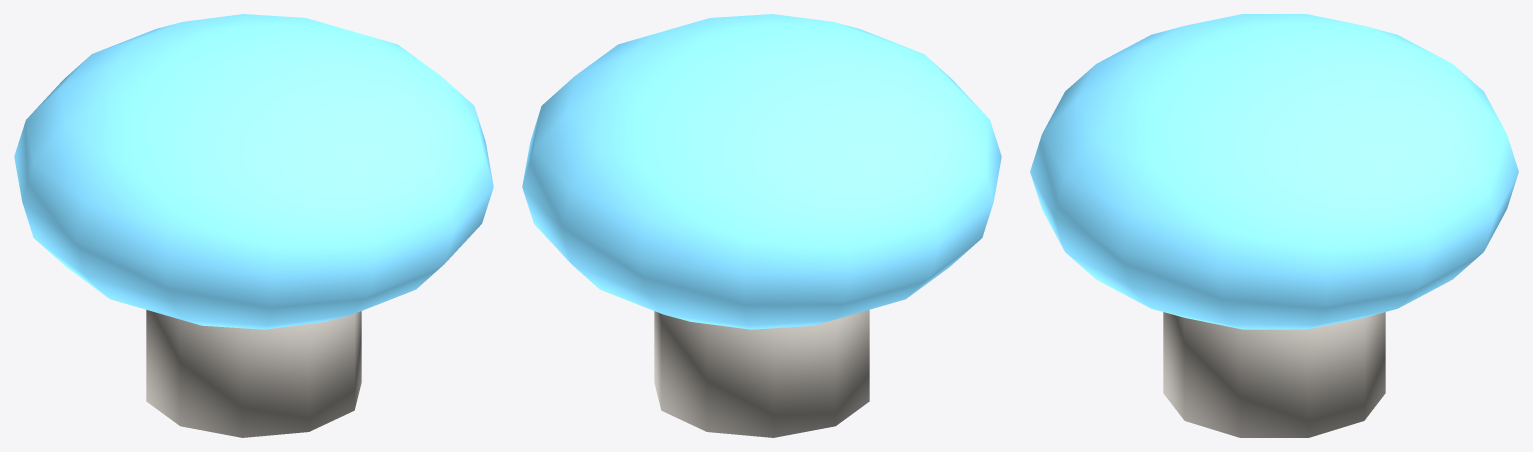
The model's file is mushroom-chunky.glb.
3 renders of one model, left to right at view 1: azimuth 30°, elevation 25°; view 2: azimuth 150°, elevation 25°; view 3: azimuth 270°, elevation 25°, orthographic.
Parts seen in each view (by area): view 1: Mush3_Cap, Mush3_Stem; view 2: Mush3_Cap, Mush3_Stem; view 3: Mush3_Cap, Mush3_Stem.
Part boxes in pixels (x1=…): Mush3_Cap: x1=14, y1=14, x2=493, y2=329; Mush3_Stem: x1=146, y1=310, x2=361, y2=437; Mush3_Cap: x1=522, y1=14, x2=1001, y2=329; Mush3_Stem: x1=654, y1=310, x2=869, y2=437; Mush3_Cap: x1=1030, y1=14, x2=1518, y2=329; Mush3_Stem: x1=1163, y1=312, x2=1385, y2=437.
Bounding box in the file's own units: 0.429 × 0.341 × 0.44.
